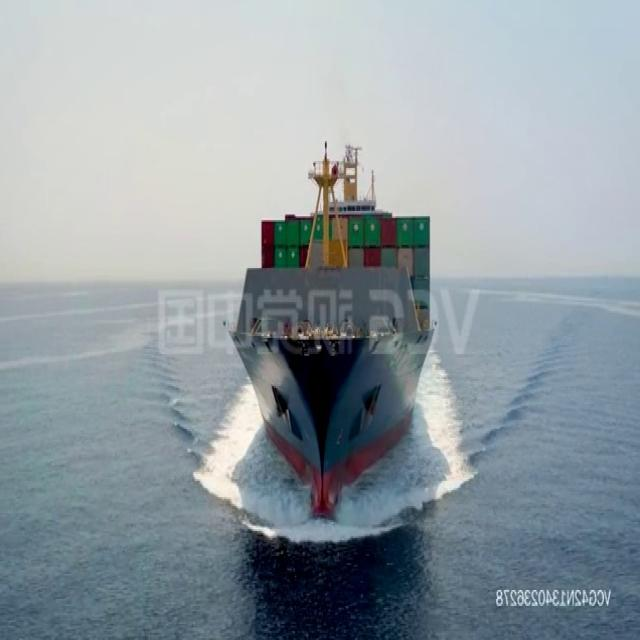cargoship: (221, 139, 437, 519)
